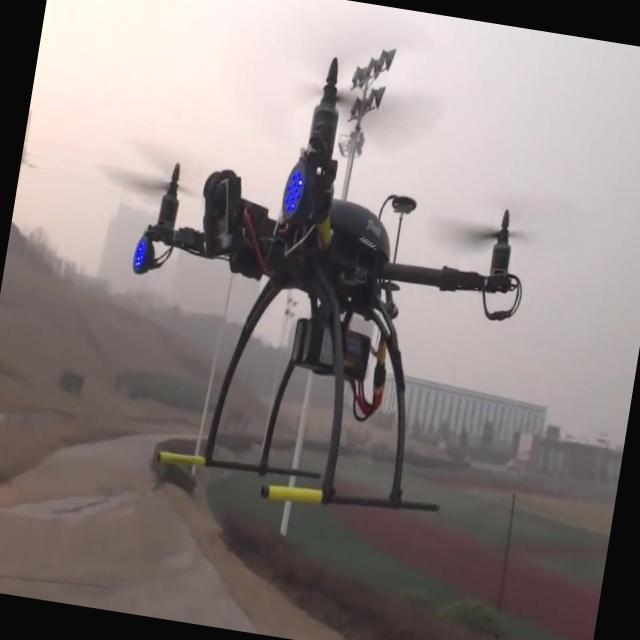drone: (93, 25, 556, 548)
